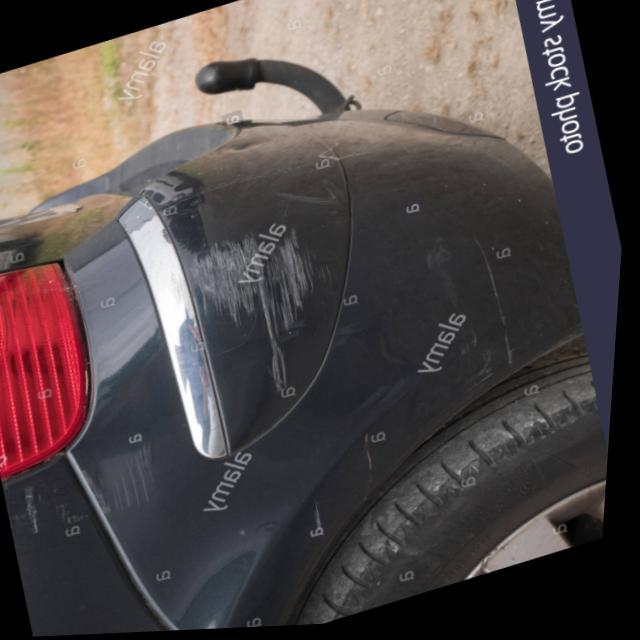Scratch: (158, 197, 373, 451)
